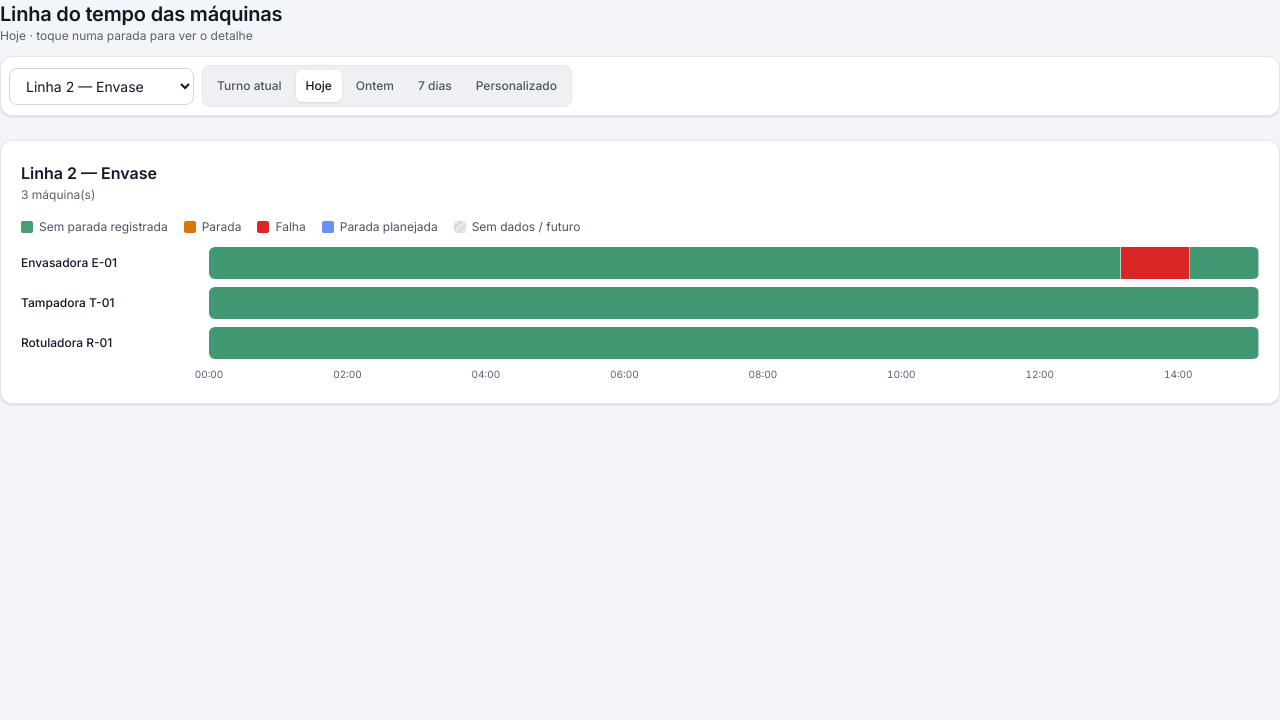
Test case: TimelinePage › draws the strips of the selected line and opens a stop's detail
Check: the heading "Linha 2 — Envase" is shown, box x1=21 y1=161 x2=157 y2=185
Check: the number of elements with test id "timeline-strip" is 3, box x1=209 y1=247 x2=1259 y2=279; x1=209 y1=287 x2=1259 y2=319; x1=209 y1=327 x2=1259 y2=359
Click the button named "Envasadora E-01: Falha" at (1155,263), box x1=1121 y1=247 x2=1190 y2=279
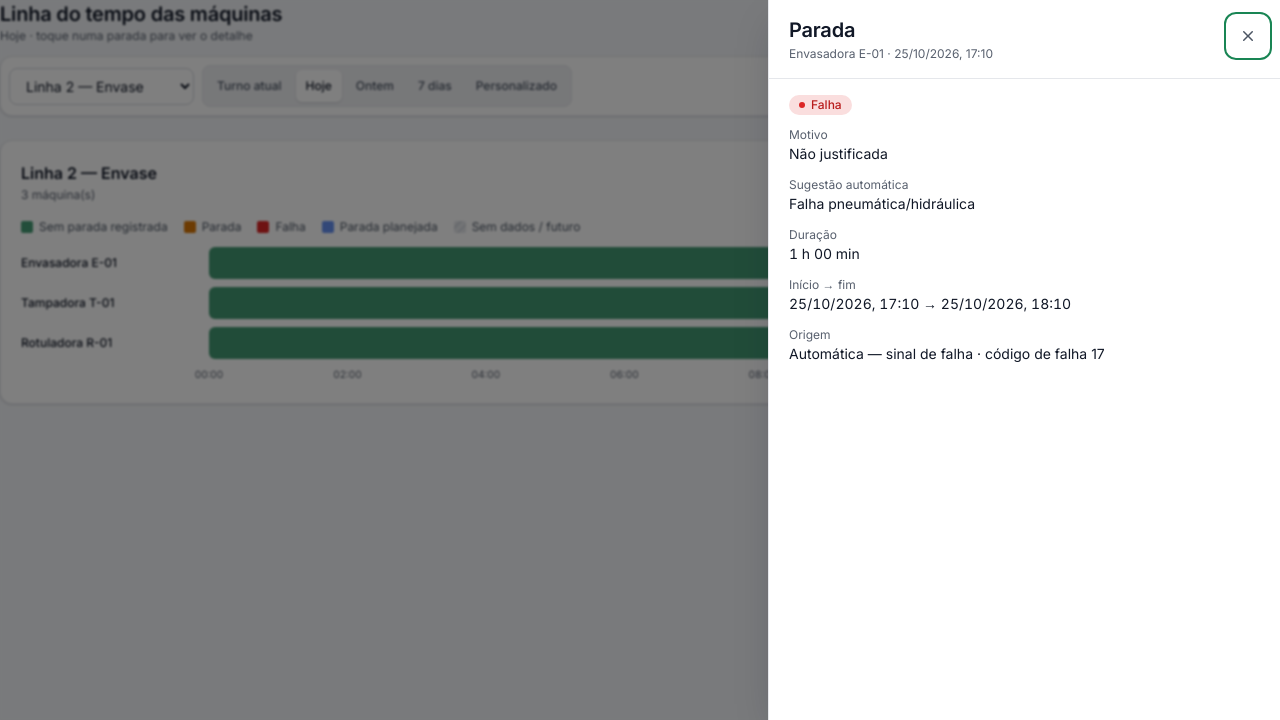
Check: the text "Não justificada" is shown, box x1=789 y1=145 x2=888 y2=162
Check: the text "Falha pneumática/hidráulica" is shown, box x1=789 y1=195 x2=975 y2=212
Check: the text "Automática — sinal de falha · código de falha 17" is shown, box x1=789 y1=345 x2=1105 y2=362
